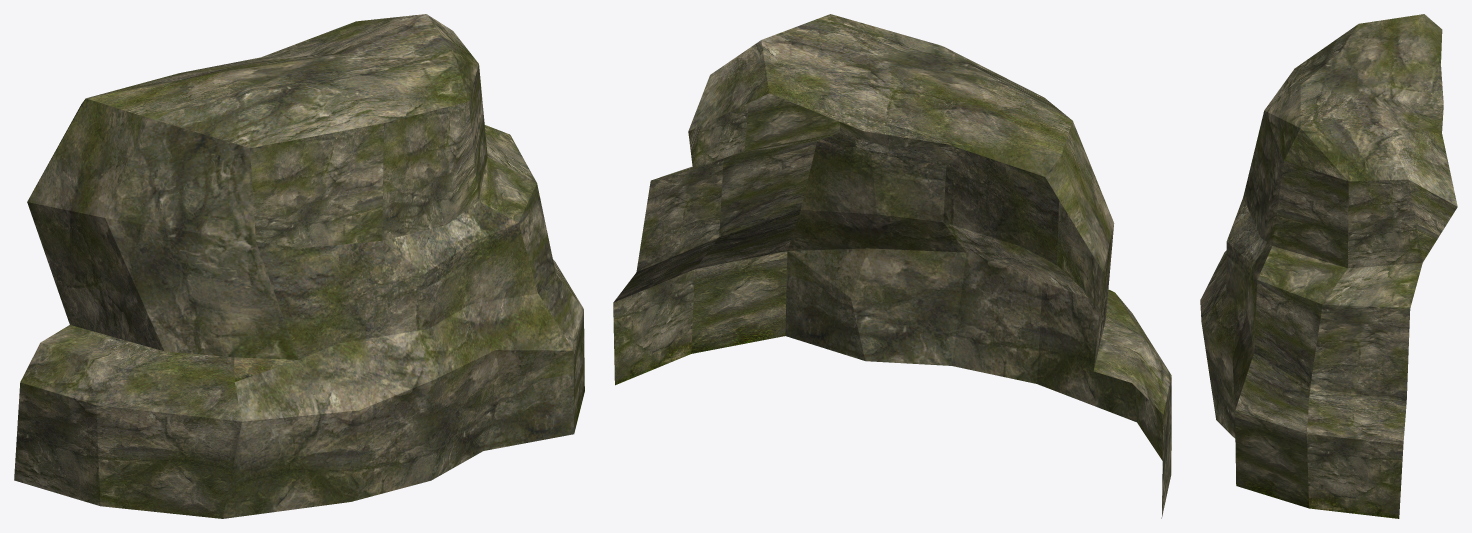
File: Youshuizhou_zhiwu_016_7.FBX
The picture shows the model from 3 angles, left to right: view 1: azimuth 30°, elevation 25°; view 2: azimuth 150°, elevation 25°; view 3: azimuth 270°, elevation 25°; orthographic projection. The views are drawn at different scales.
Visible parts, largest first — view 1: gy_st_yanshi001_lj7; view 2: gy_st_yanshi001_lj7; view 3: gy_st_yanshi001_lj7.
Part boxes in pixels (left/top/right/bottom): gy_st_yanshi001_lj7: left=14, top=14, right=584, bottom=518; gy_st_yanshi001_lj7: left=613, top=14, right=1171, bottom=518; gy_st_yanshi001_lj7: left=1200, top=14, right=1457, bottom=518.
Bounding box in the file's own units: 963 × 631 × 449.
